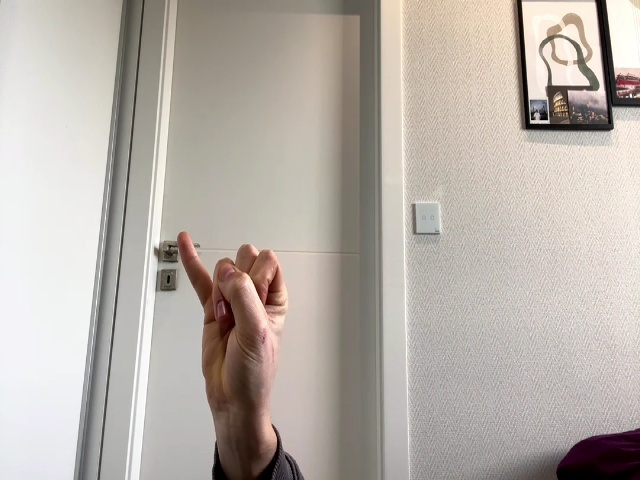I: (177, 232, 289, 419)
